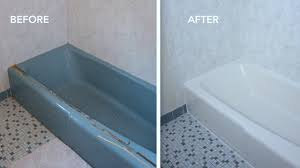bathub: (4, 40, 155, 168), (185, 55, 300, 168)
